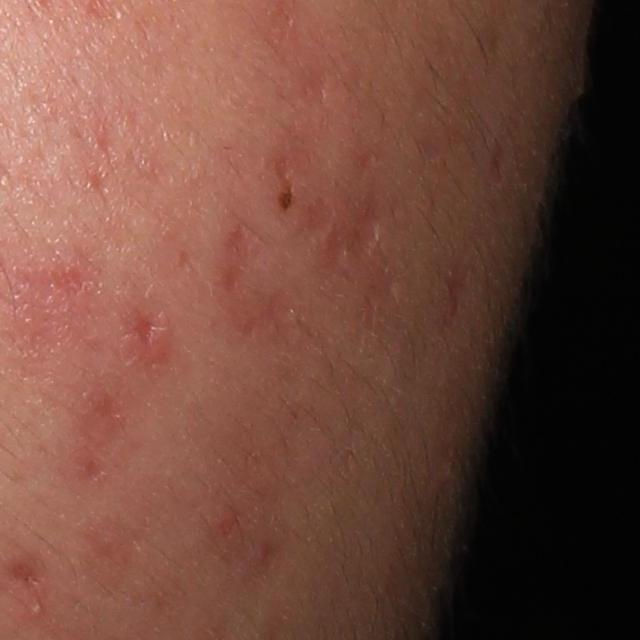atrophic_scar: (317, 189, 388, 281)
nevus: (275, 187, 294, 214)
